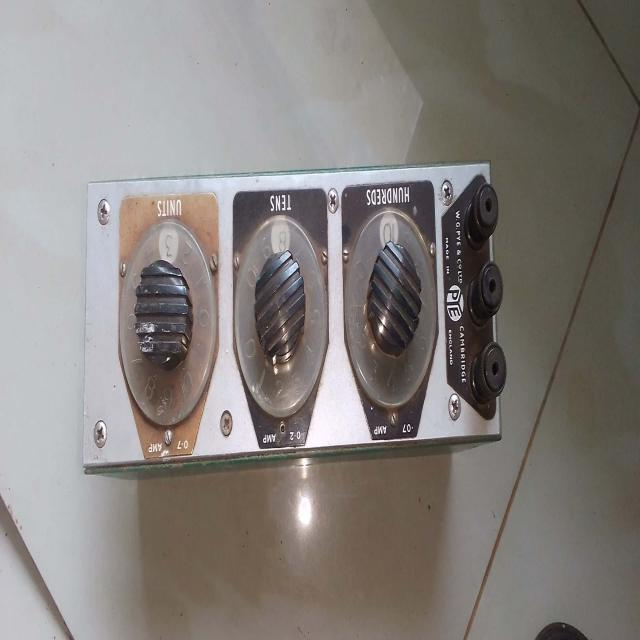Decade Resistance Box: (78, 152, 516, 478)
